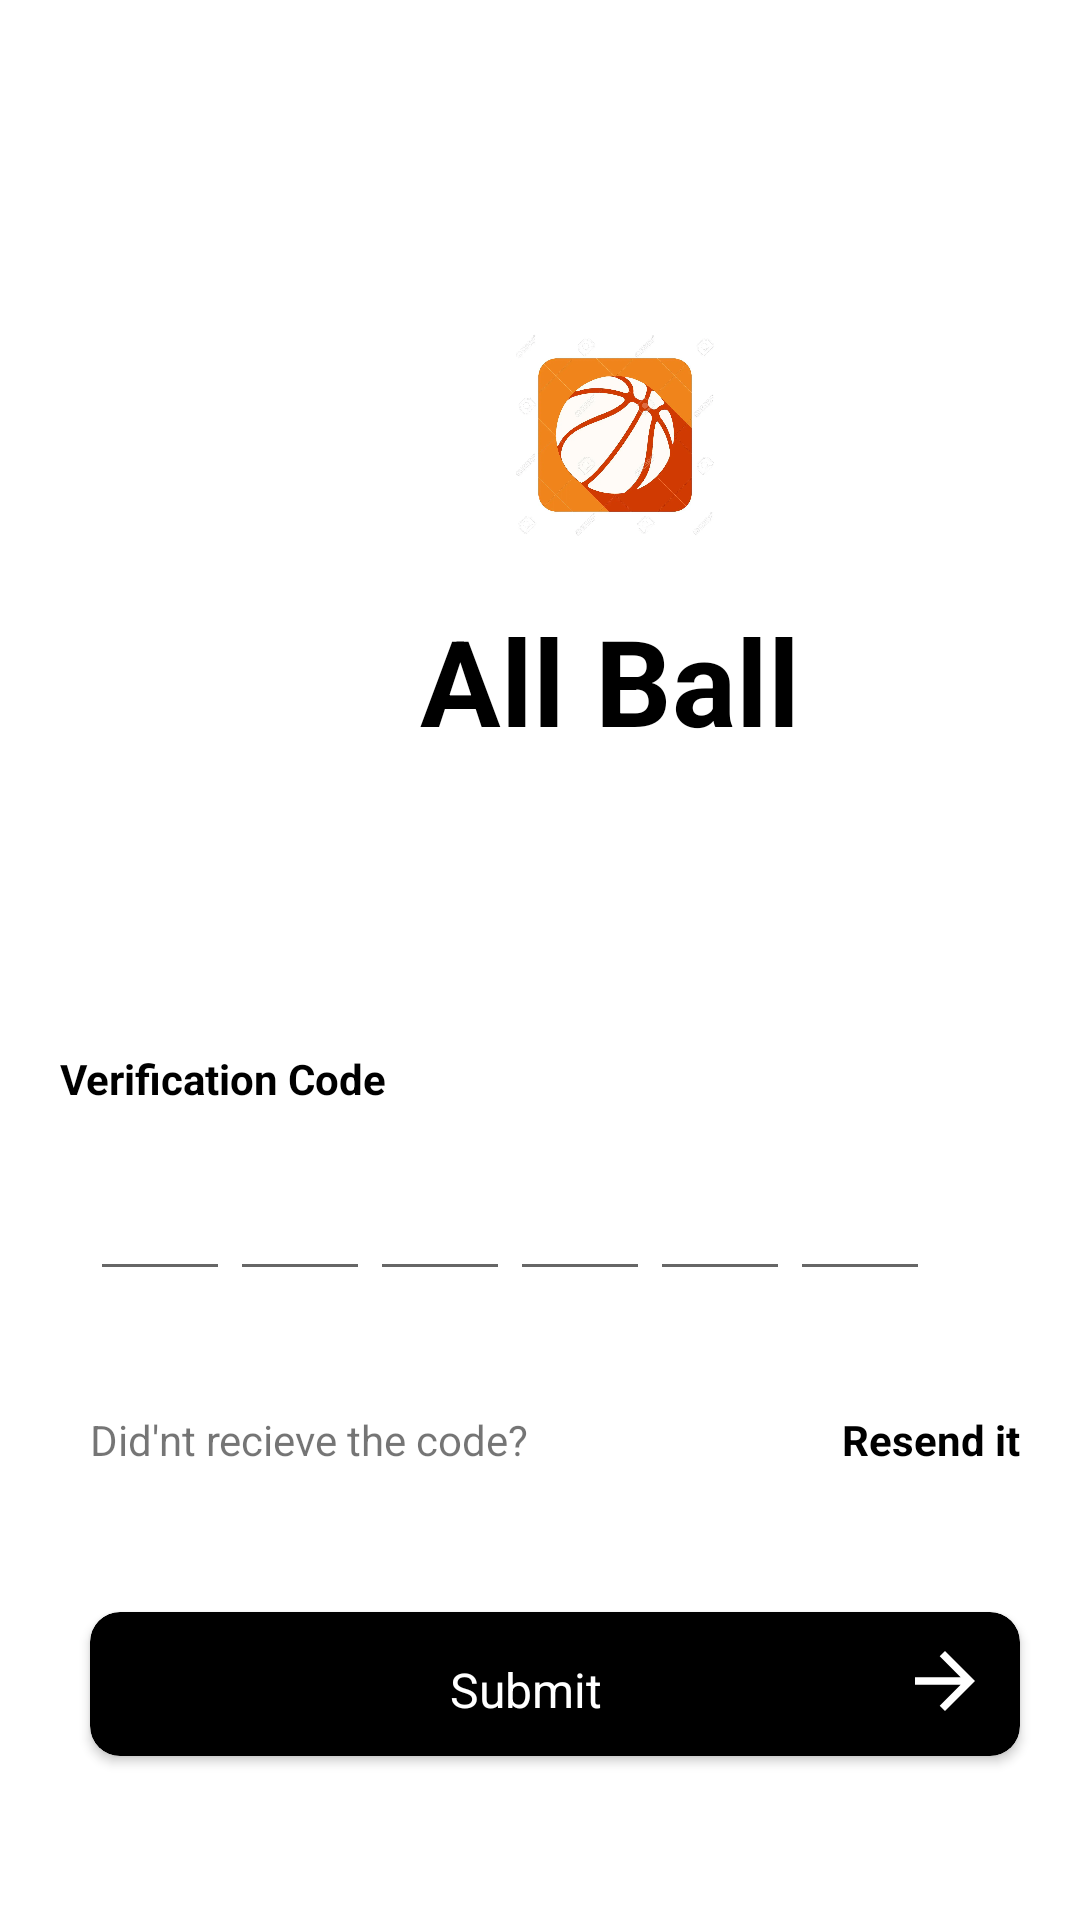

Named icons in this screenshot (1080×1920) and their centers, [x,y]:
arrow forward: [945,1681]
